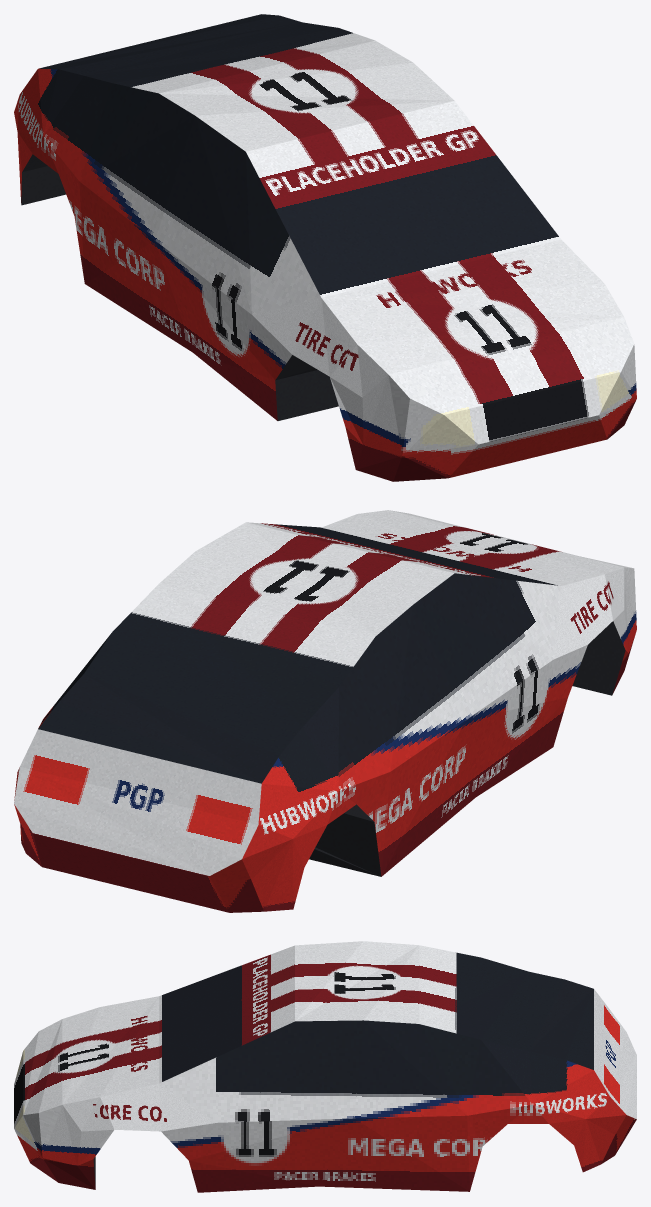
The model's file is red11.gltf.
3 views of the same model, one above another, from view 1: azimuth 30°, elevation 25°; view 2: azimuth 150°, elevation 25°; view 3: azimuth 270°, elevation 25° (orthographic). The views are drawn at different scales.
Size of the model in its own units: 0.6881 by 0.4606 by 1.6.
Materials: 1 (1 with a texture image).
